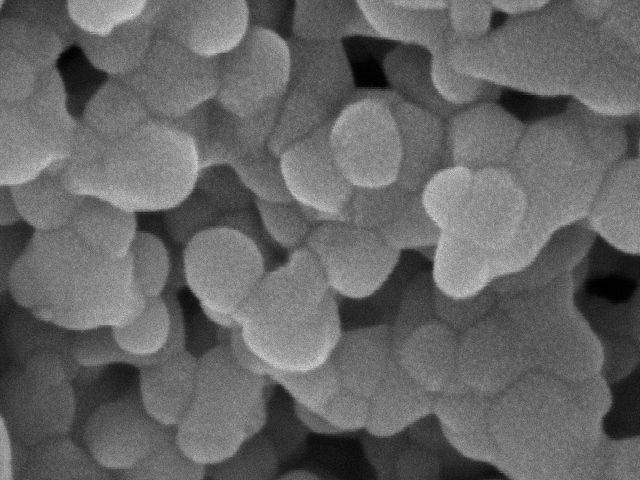nano: (322, 90, 415, 188), (179, 217, 268, 310)
